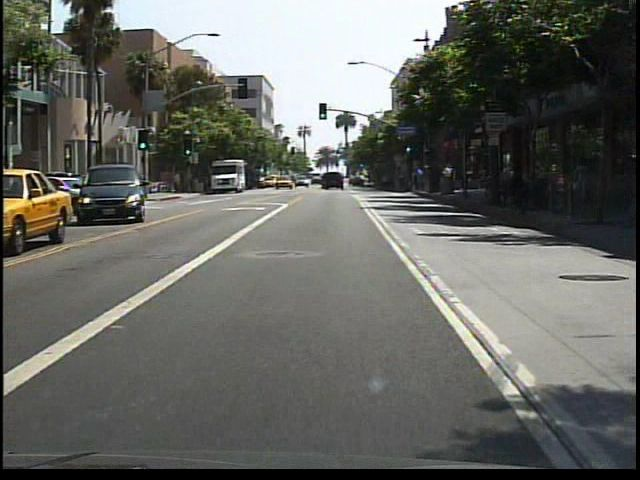person: (172, 168, 186, 195), (163, 171, 176, 194)
